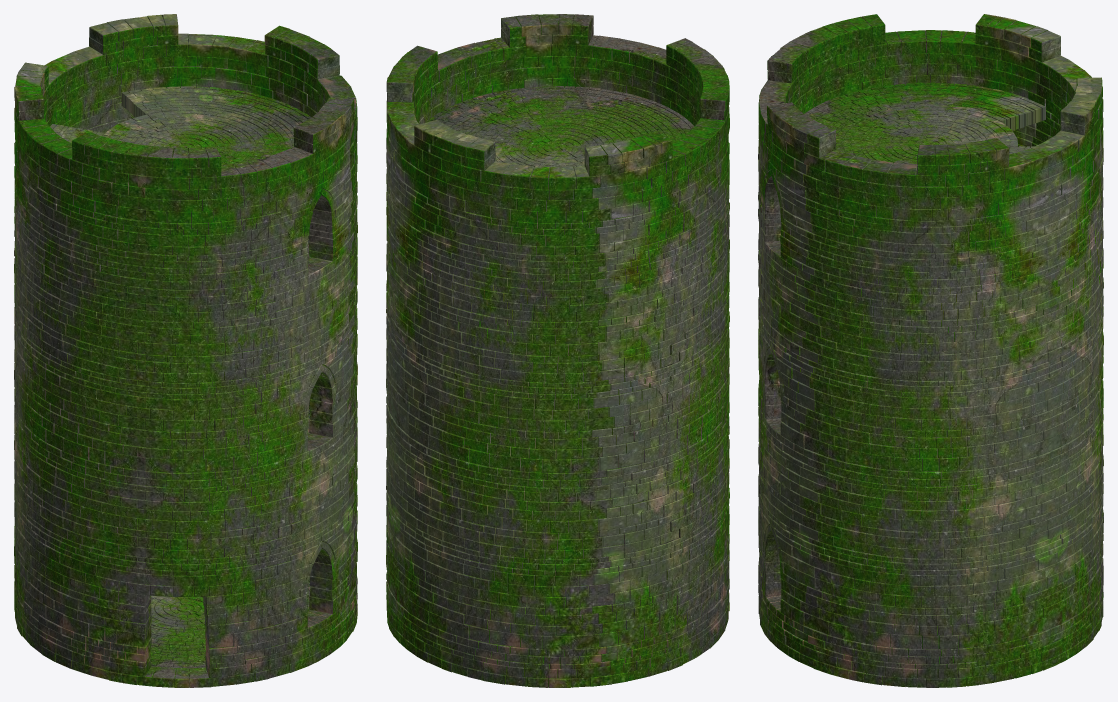
Rendered from abandonedMedievalTower.obj.
3 views of the same model, side by side, from view 1: azimuth 30°, elevation 25°; view 2: azimuth 150°, elevation 25°; view 3: azimuth 270°, elevation 25° (orthographic).
Visible parts, largest first — view 1: Cylinder_Cylinder.001; view 2: Cylinder_Cylinder.001; view 3: Cylinder_Cylinder.001.
Boxes of the visible parts, box(x1,y1,x2,y2) form: Cylinder_Cylinder.001: box(14, 14, 357, 687); Cylinder_Cylinder.001: box(386, 14, 729, 687); Cylinder_Cylinder.001: box(758, 14, 1103, 687).
Bounding box in the file's own units: 1.88 × 3.2 × 1.88.
